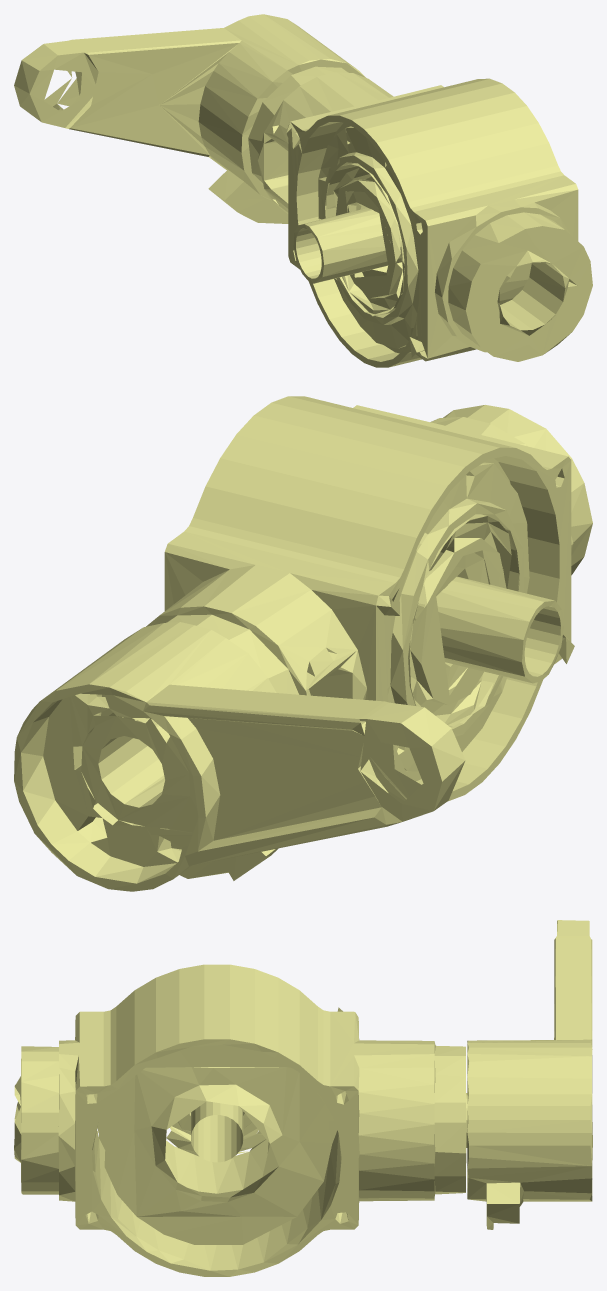
Rendered from ankle_Y_lo_res.dae.
3 views of the same model, one above another, from view 1: azimuth 30°, elevation 25°; view 2: azimuth 150°, elevation 25°; view 3: azimuth 270°, elevation 25° (orthographic). The views are drawn at different scales.
Visible parts, largest first — view 1: ankle_Y_lo_res; view 2: ankle_Y_lo_res; view 3: ankle_Y_lo_res.
Boxes of the visible parts, left/top/right/bottom form: ankle_Y_lo_res: left=14, top=14, right=592, bottom=367; ankle_Y_lo_res: left=14, top=396, right=592, bottom=891; ankle_Y_lo_res: left=14, top=920, right=592, bottom=1276.
Size of the model in its own units: 0.1143 by 0.1758 by 0.0796.
